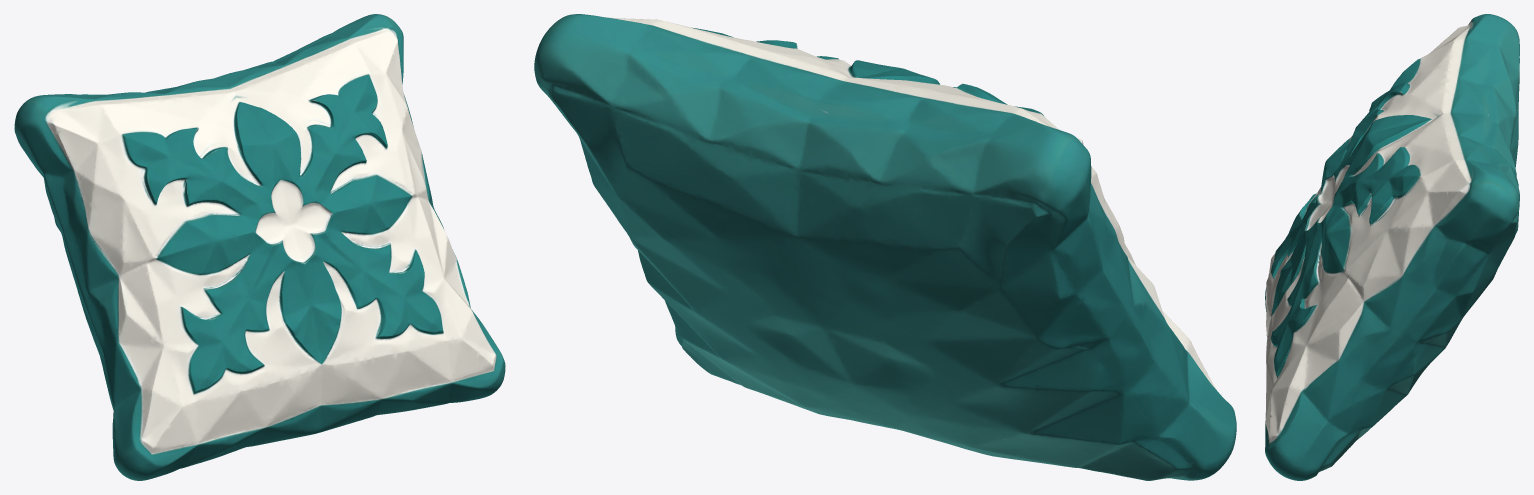
Rendered from pillow.glb.
3 views of the same model, side by side, from view 1: azimuth 30°, elevation 25°; view 2: azimuth 150°, elevation 25°; view 3: azimuth 270°, elevation 25° (orthographic). The views are drawn at different scales.
Bounding box in the file's own units: 1.9 × 1.48 × 1.12.
Materials: 1 (1 with a texture image).
